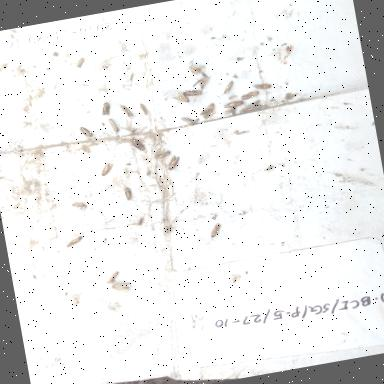pbw: (239, 98, 265, 116), (128, 134, 149, 154), (204, 220, 224, 240), (197, 100, 219, 118), (97, 160, 118, 178), (196, 74, 216, 92), (186, 62, 207, 78), (110, 280, 134, 294), (250, 78, 274, 92), (63, 234, 86, 248), (171, 90, 191, 106), (164, 154, 182, 170), (240, 89, 262, 102), (183, 86, 205, 99), (220, 98, 243, 110), (104, 270, 121, 286), (119, 102, 134, 120), (220, 106, 242, 118), (98, 100, 113, 117), (108, 116, 122, 134), (78, 125, 94, 140), (154, 148, 174, 160), (180, 115, 198, 128), (72, 198, 88, 212), (122, 185, 134, 203), (137, 102, 150, 118), (222, 80, 236, 94)
